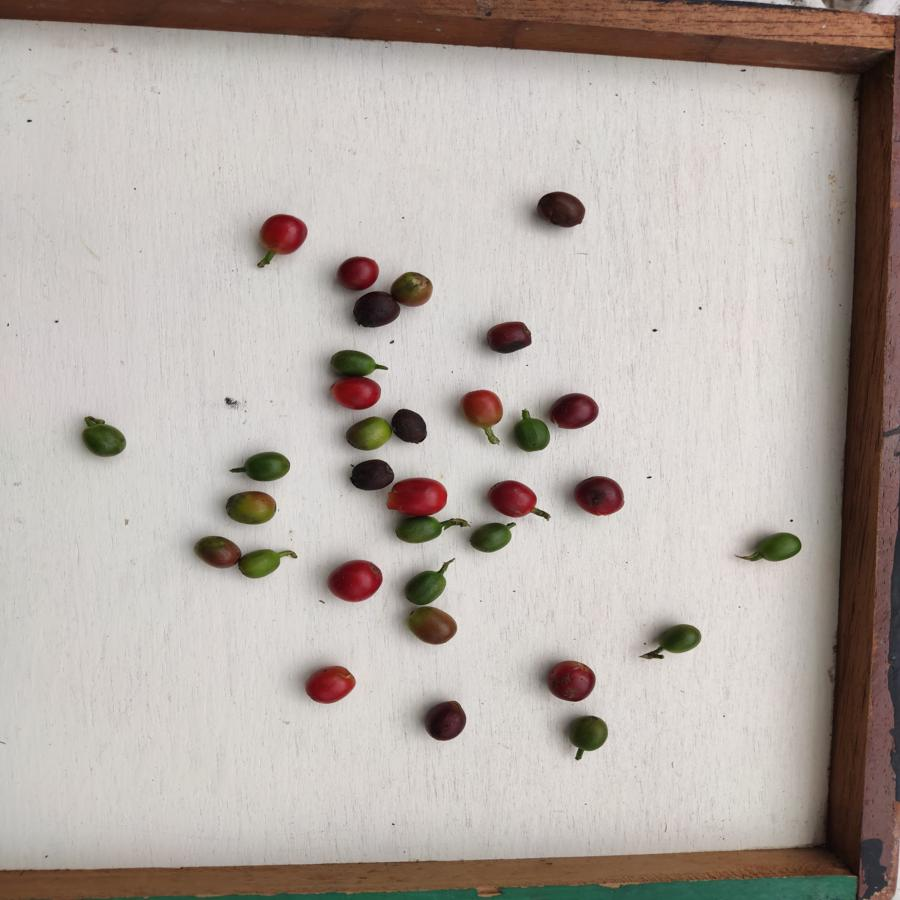Inmaduro: (78, 419, 130, 461), (567, 714, 612, 753), (239, 450, 292, 482), (323, 349, 381, 378), (469, 520, 517, 554), (755, 528, 804, 561), (406, 570, 448, 606), (394, 516, 446, 545), (513, 415, 550, 454), (661, 623, 703, 657), (239, 549, 282, 580)
Maduro: (383, 476, 450, 517), (326, 557, 384, 602), (258, 212, 310, 257), (487, 478, 538, 523), (305, 664, 358, 705), (328, 377, 381, 410)
Pinton: (223, 489, 283, 528), (407, 606, 458, 649), (461, 388, 505, 428), (393, 272, 435, 306), (354, 416, 392, 447)
Sobremaduro: (532, 188, 589, 231), (546, 657, 595, 704), (573, 476, 627, 517), (483, 316, 534, 355), (550, 392, 601, 429), (350, 292, 399, 328), (337, 255, 378, 296), (427, 699, 467, 740), (347, 460, 398, 490), (390, 409, 429, 447)
